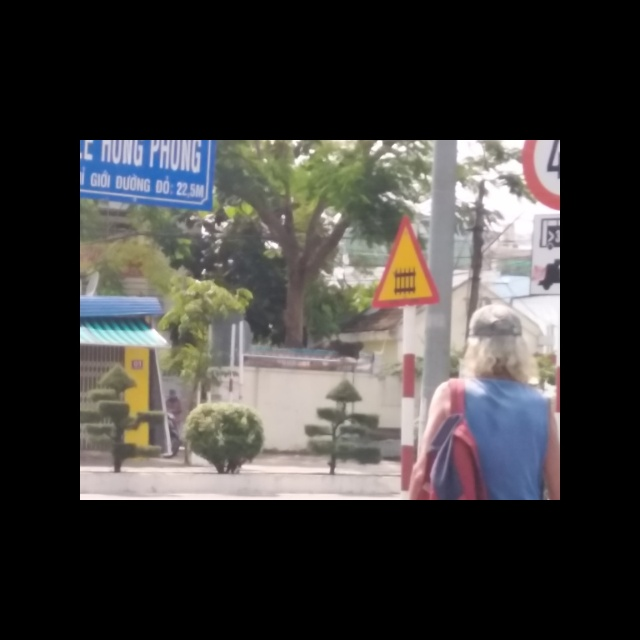Giao nhau với đường sắt có rào chắn: (373, 215, 444, 309)
